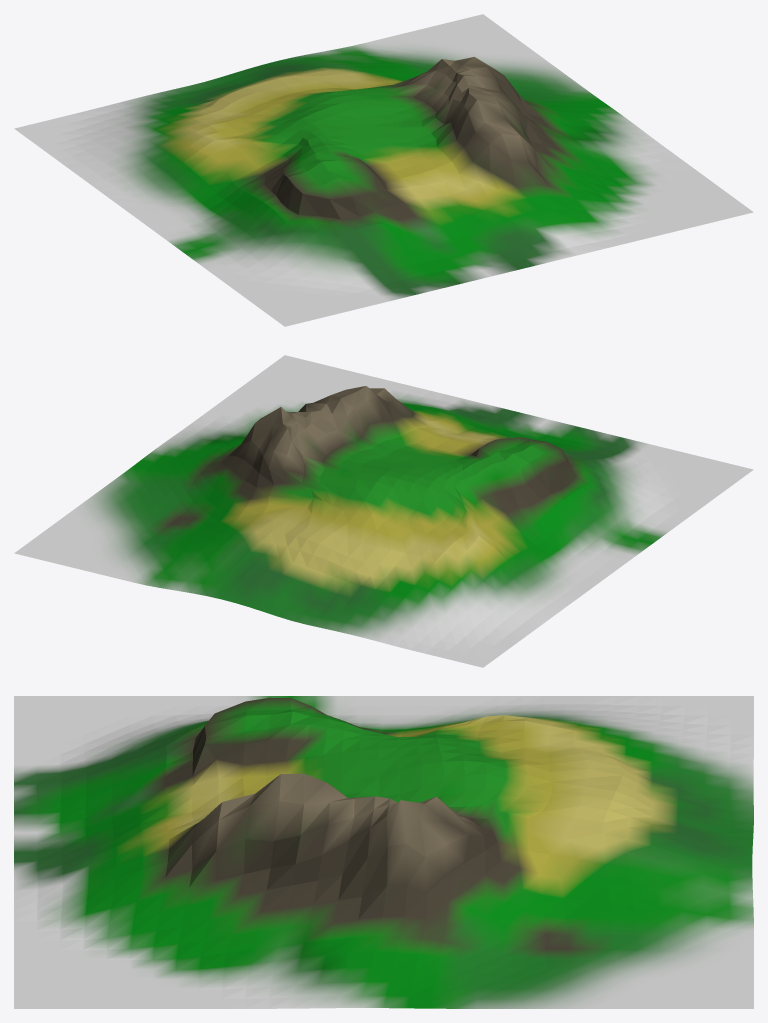
The model's file is Island.fbx.
3 views of the same model, one above another, from view 1: azimuth 30°, elevation 25°; view 2: azimuth 150°, elevation 25°; view 3: azimuth 270°, elevation 25° (orthographic). The views are drawn at different scales.
Parts seen in each view (by area): view 1: Cube; view 2: Cube; view 3: Cube.
Part boxes in pixels (x1,y1,x2,y2): Cube: (14, 14, 753, 326); Cube: (14, 355, 753, 667); Cube: (14, 696, 753, 1008).
Bounding box in the file's own units: 100008 × 17436 × 100000.
